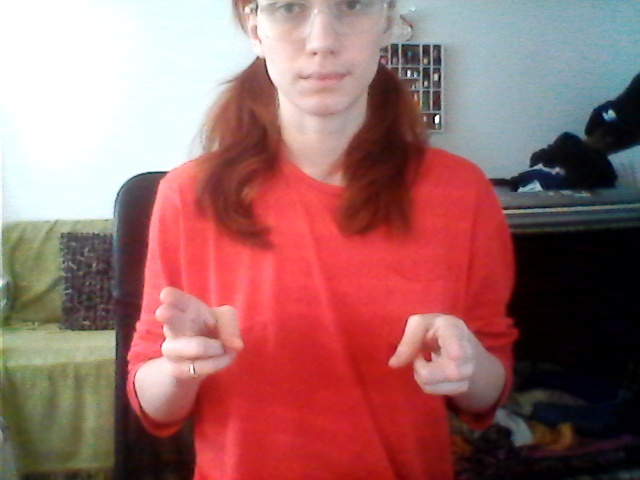ako: (141, 278, 477, 410)
